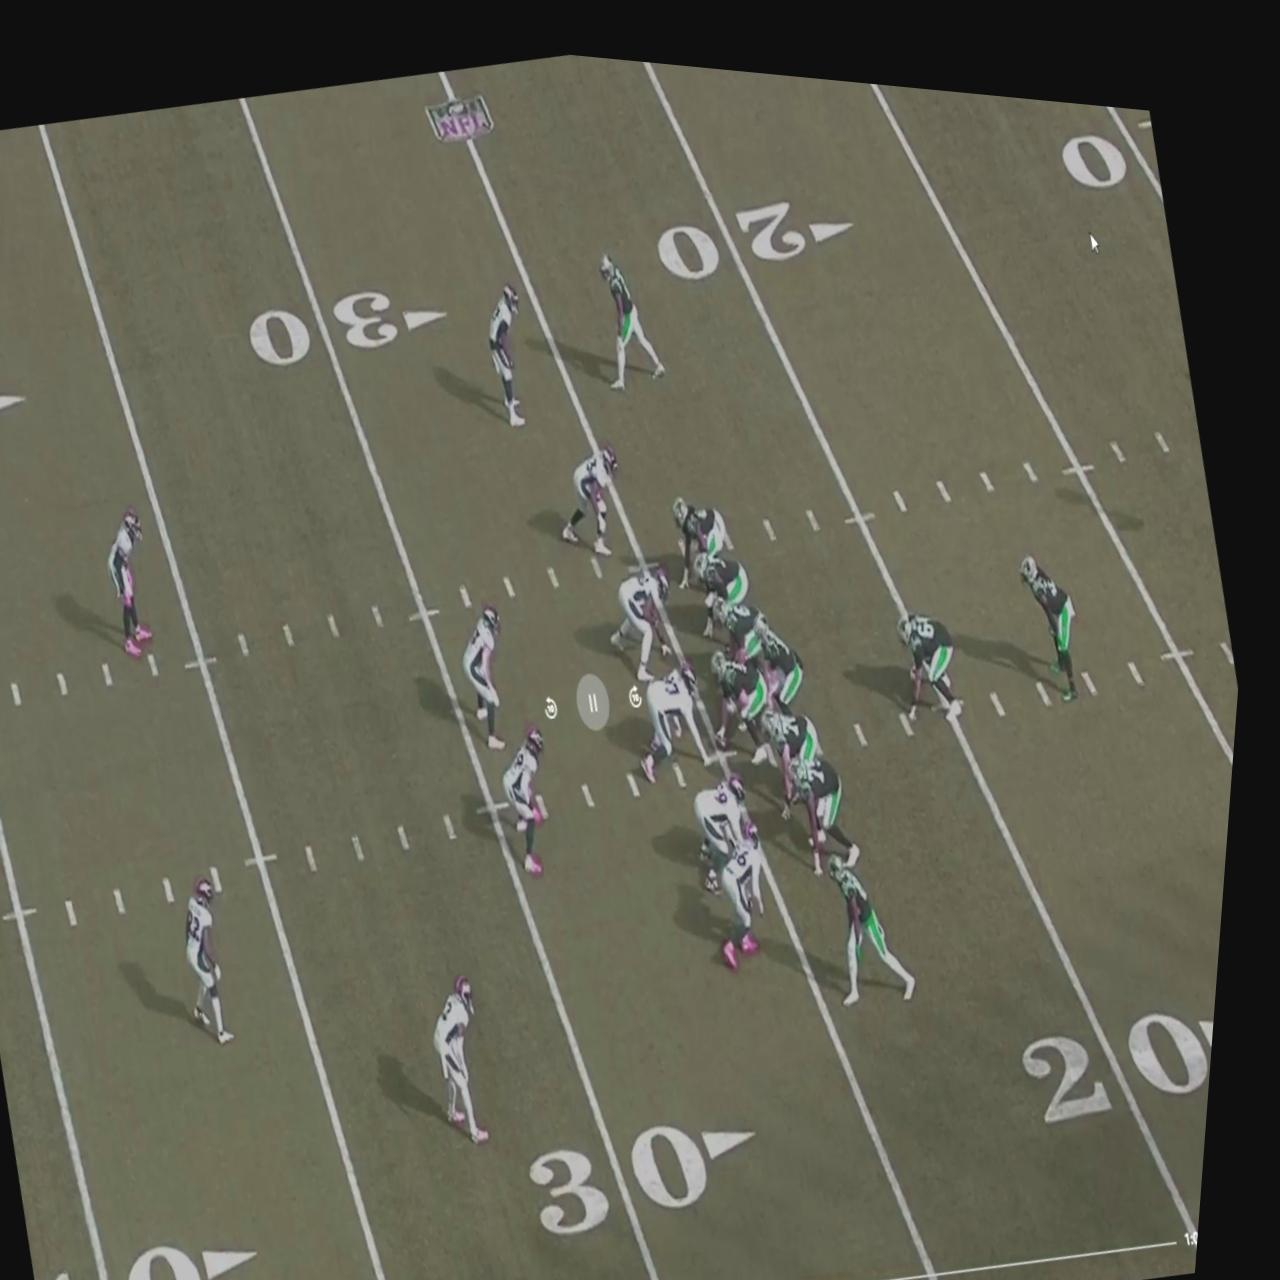20R: (1027, 955, 1230, 1114), (651, 157, 865, 286)
30R: (537, 1078, 790, 1244), (245, 257, 461, 380)
40R: (48, 1206, 294, 1280), (0, 358, 39, 451)
